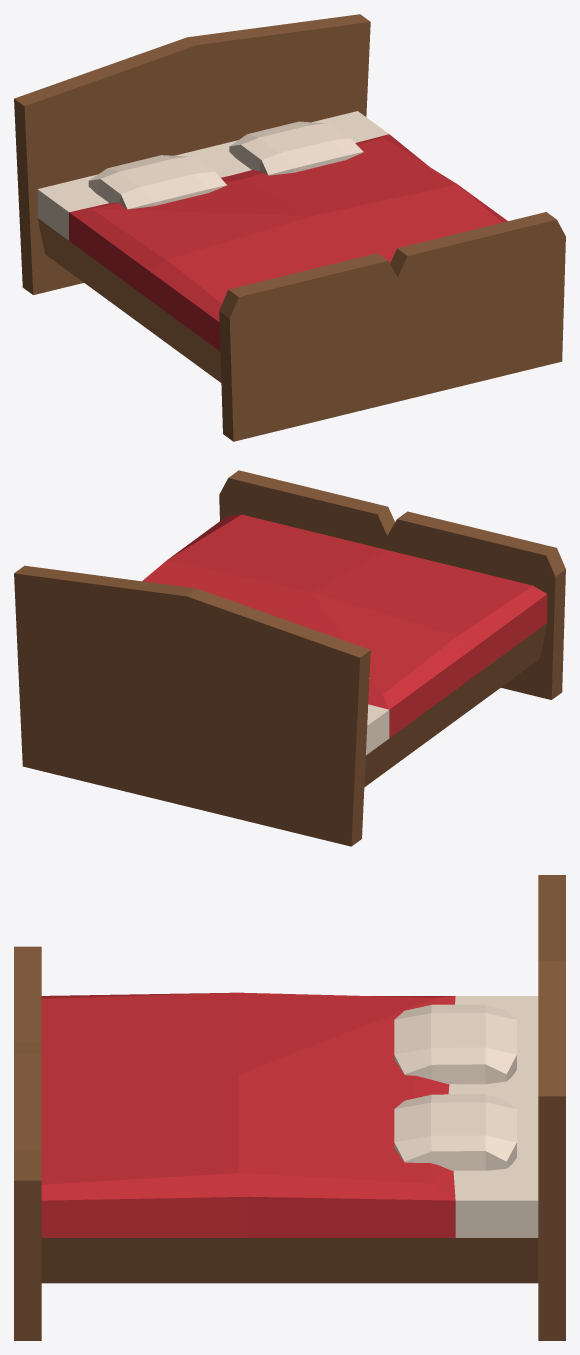
The model's file is fantasy-bed-big-wood.glb.
The picture shows the model from 3 angles, top to bottom: view 1: azimuth 30°, elevation 25°; view 2: azimuth 150°, elevation 25°; view 3: azimuth 270°, elevation 25°; orthographic projection. The views are drawn at different scales.
Parts seen in each view (by area): view 1: bed-big-wood; view 2: bed-big-wood; view 3: bed-big-wood.
Boxes of the visible parts, x1,y1,x2,y2 form: bed-big-wood: (14, 14, 565, 441); bed-big-wood: (14, 470, 565, 846); bed-big-wood: (14, 875, 565, 1340).
Bounding box in the file's own units: 1.9 × 1.1 × 2.
